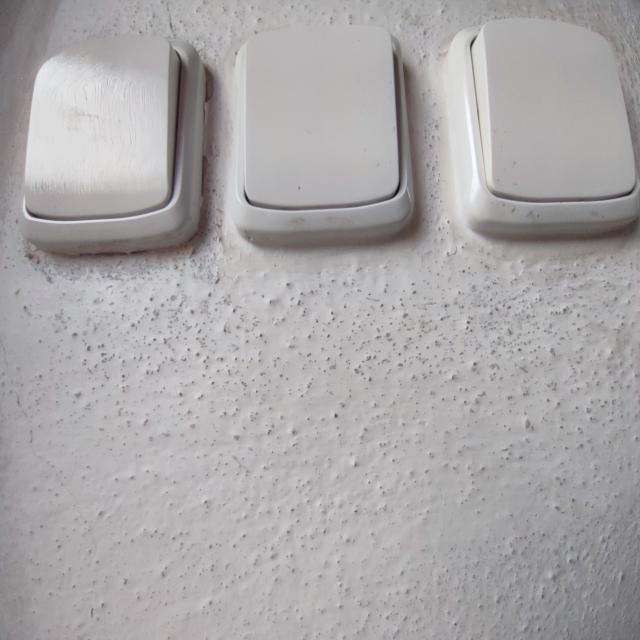house switch: (442, 17, 640, 239), (20, 35, 207, 255), (230, 24, 416, 242)
